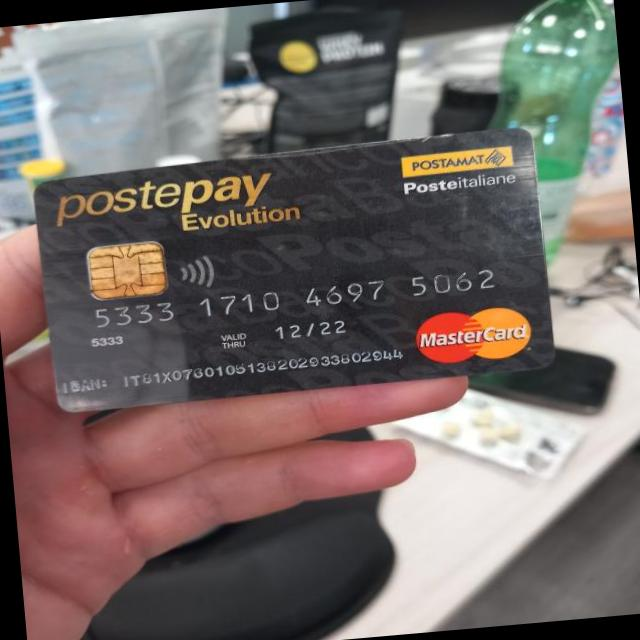card: (36, 128, 558, 418)
